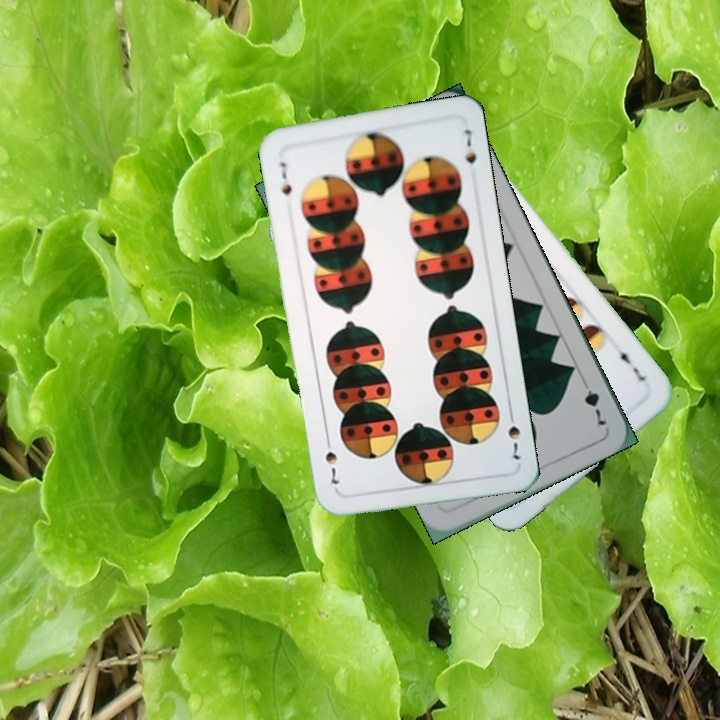E7: (615, 342, 648, 384)
G7: (577, 373, 610, 428)
S7: (504, 406, 524, 463), (275, 158, 295, 198)
